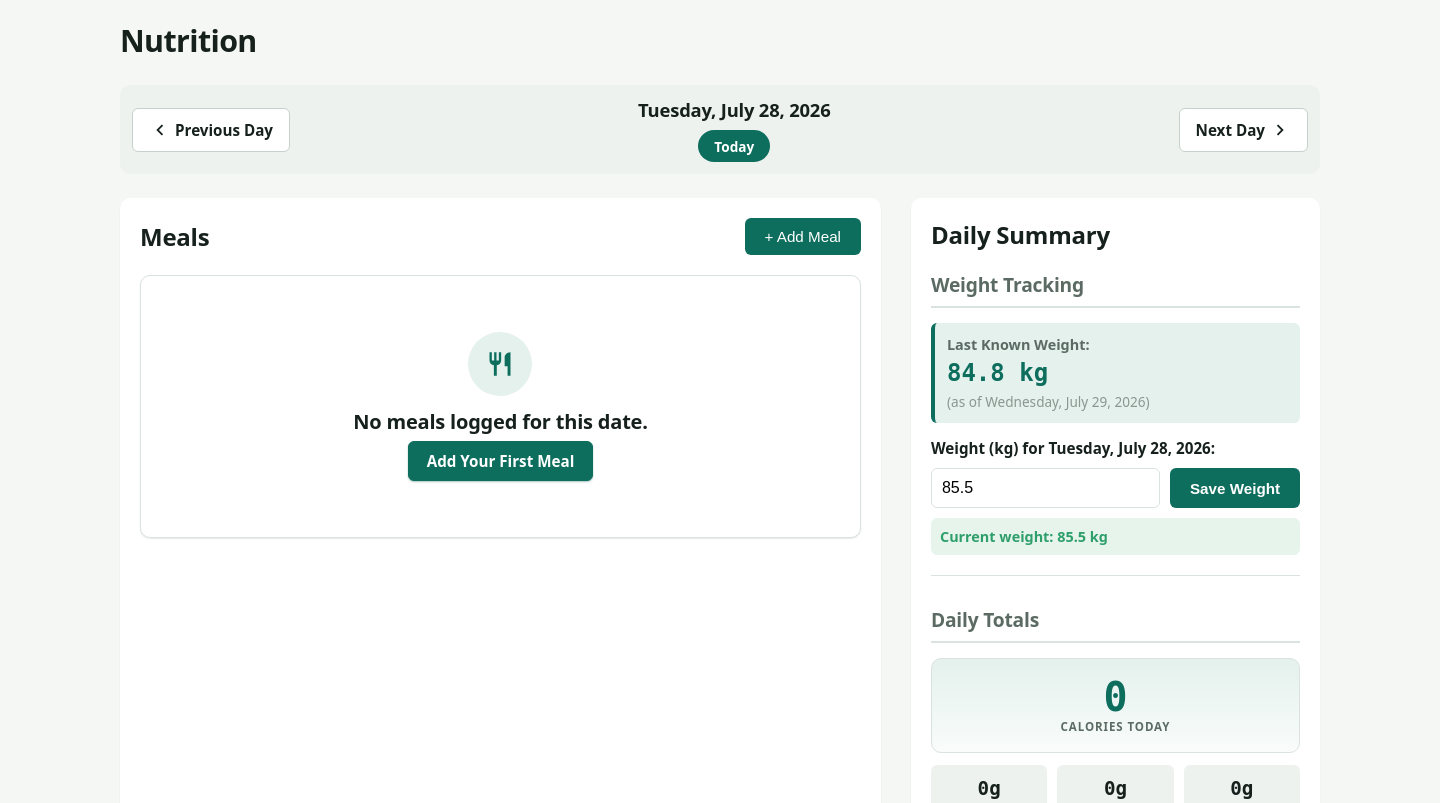
Test: NutritionPage › updates weight entry when navigating to different date
Expected: the number field labelled "Weight (kg) for Tuesday, July 28, 2026:" holds "85.5", [931,468,1160,508]
Note: Navigate to next day
Click the button "Next Day": (1243,130) [1179,108,1308,152]
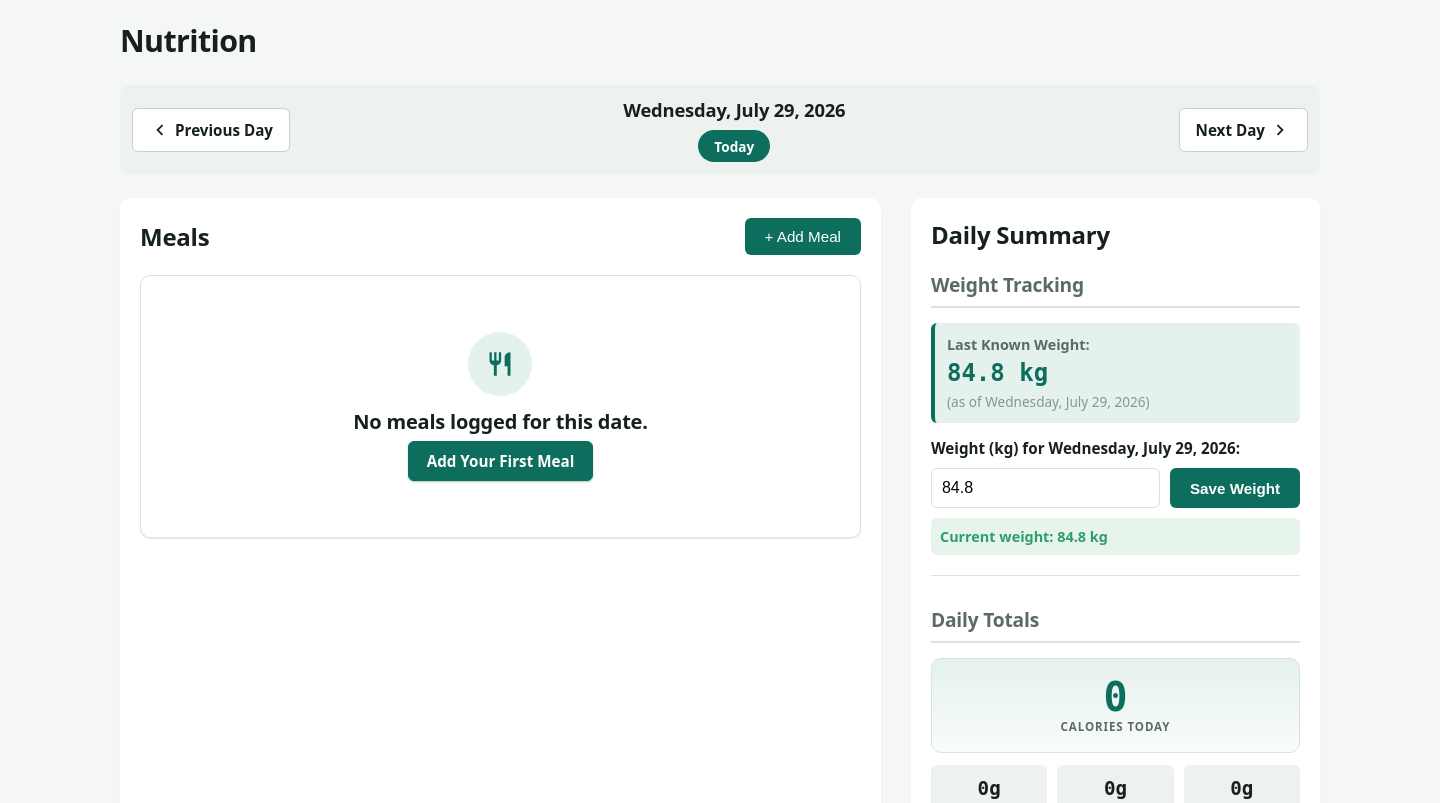
Now the number field labelled "Weight (kg) for Wednesday, July 29, 2026:" holds "84.8", box [931,468,1160,508]
